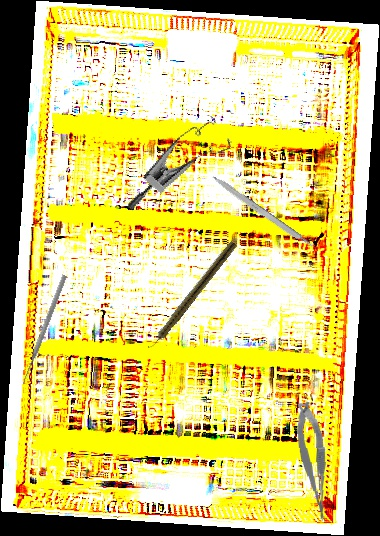Handpiece: (145, 238, 238, 353)
Micro Scissor: (294, 399, 331, 525)
Pusher: (19, 274, 69, 385)
Scalpel Handle: (209, 174, 317, 252)
Speculum: (126, 102, 239, 237)
